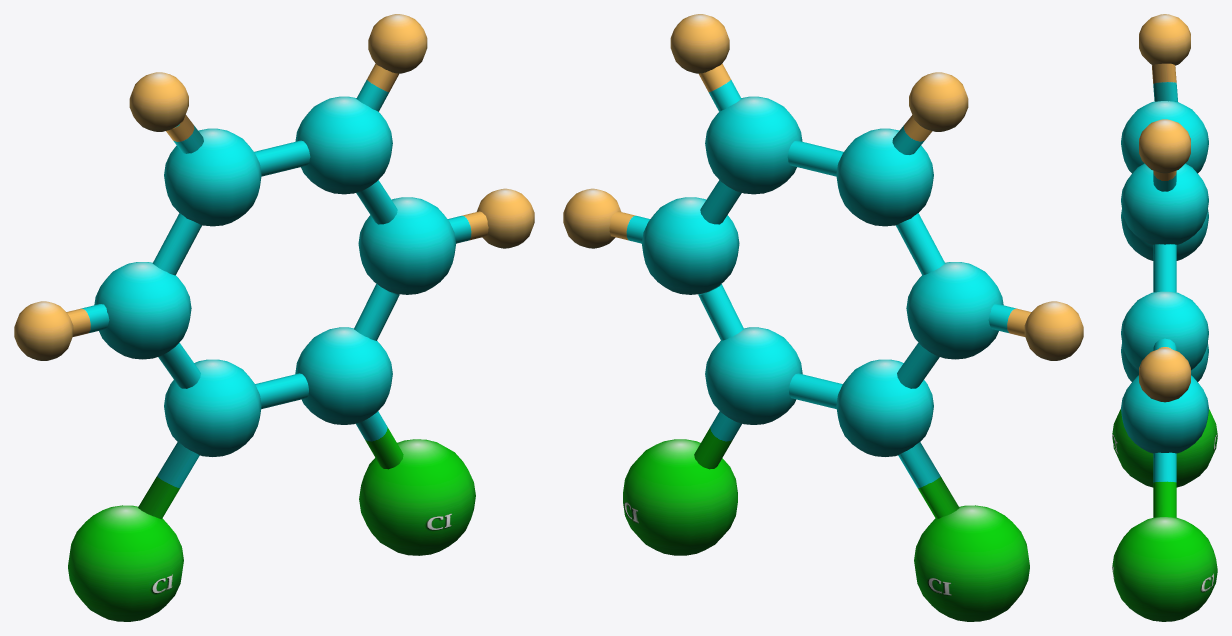
Rendered from oDichloroBenzene.dae.
The picture shows the model from 3 angles, left to right: view 1: azimuth 30°, elevation 25°; view 2: azimuth 150°, elevation 25°; view 3: azimuth 270°, elevation 25°; orthographic projection. The views are drawn at different scales.
Parts seen in each view (by area): view 1: polySurface77; view 2: polySurface77; view 3: polySurface77.
Boxes of the visible parts, box(x1,y1,x2,y2) form: polySurface77: box(14, 14, 534, 621); polySurface77: box(563, 14, 1083, 621); polySurface77: box(1112, 14, 1217, 621).
Size of the model in its own units: 4.48 by 4.5 by 0.8862.
1 material, 1 textured.
